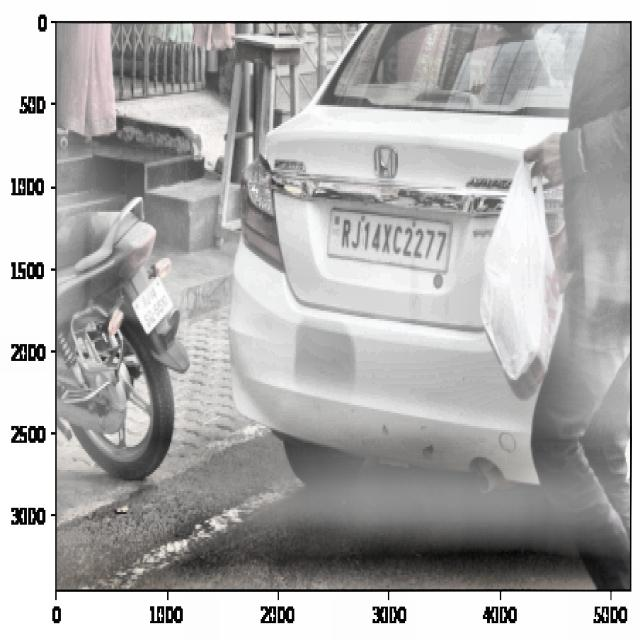license_plate: (337, 214, 452, 267)
